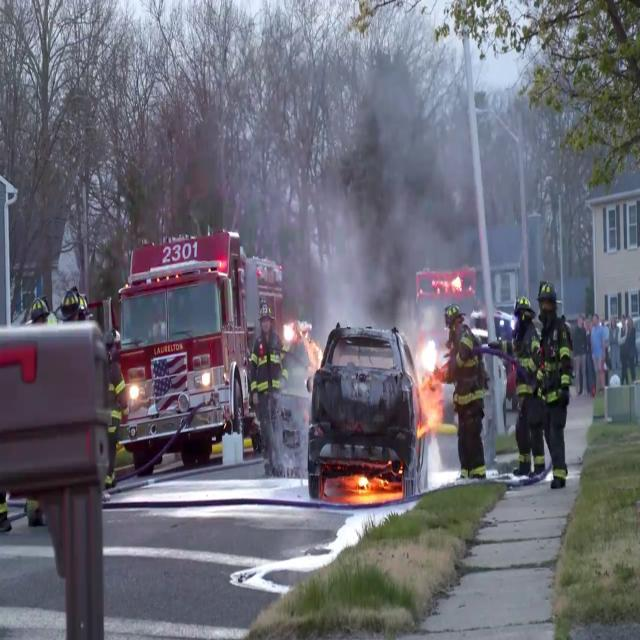Fire: (412, 342, 444, 430), (342, 465, 398, 500)
Smoke: (291, 6, 551, 344)
